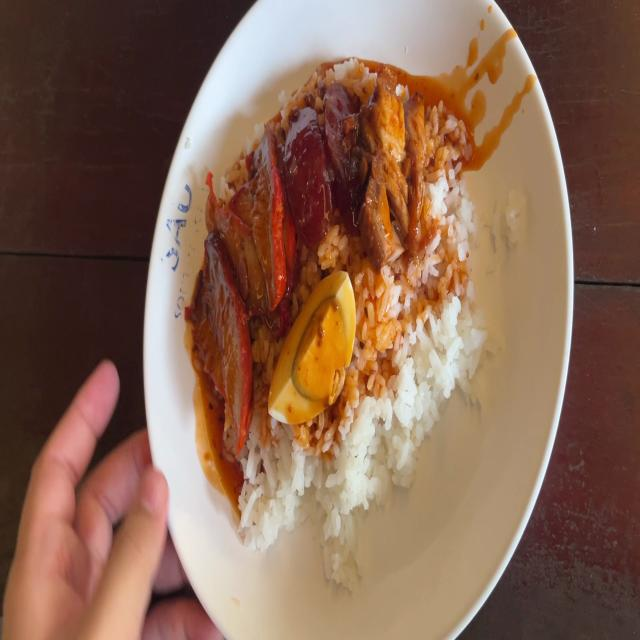01boiled_egg: (274, 273, 348, 420)
01chainese_sausage: (288, 85, 365, 239)
01crispy_pork: (368, 80, 426, 278)
01red_pork: (204, 134, 280, 431)
01red_pork_and_crispy_pork: (198, 67, 486, 545)
01rice: (356, 277, 476, 443), (240, 425, 394, 547), (428, 108, 473, 270)
